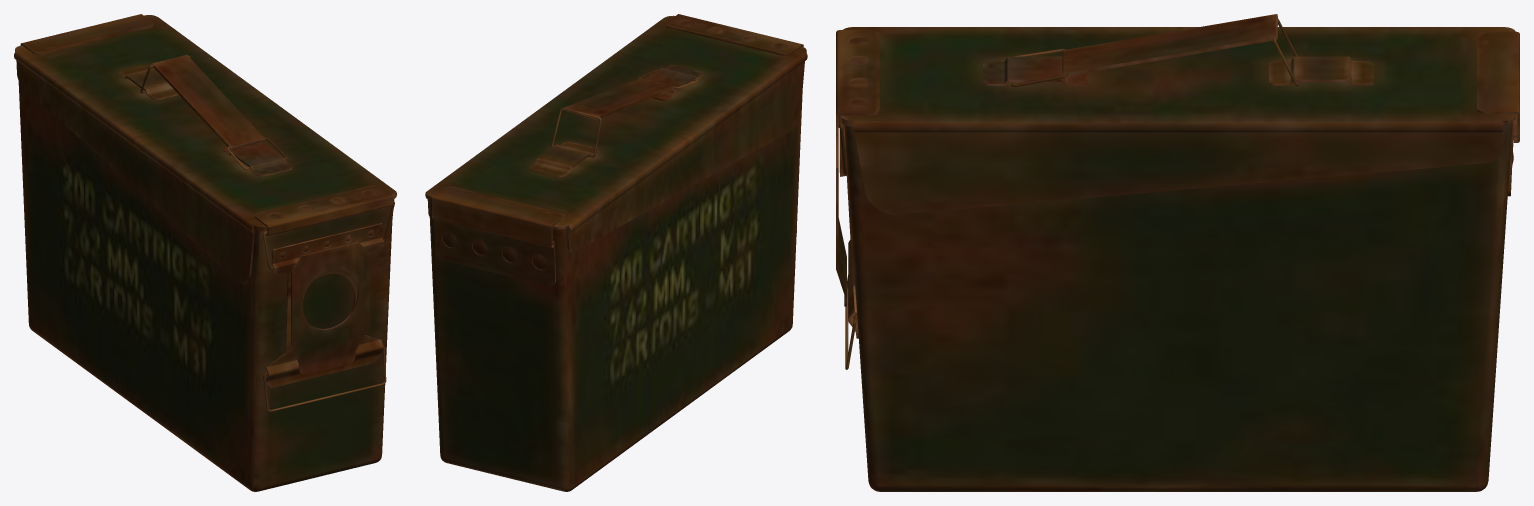
Rendered from ammo_box.glb.
3 renders of one model, left to right at view 1: azimuth 30°, elevation 25°; view 2: azimuth 150°, elevation 25°; view 3: azimuth 270°, elevation 25°, orthographic. The views are drawn at different scales.
Parts seen in each view (by area): view 1: ammo_box, ammo_box_handle, ammo_box_latch; view 2: ammo_box, ammo_box_handle; view 3: ammo_box, ammo_box_handle.
Part boxes in pixels (box(x1,y1,x2,y2)): ammo_box: box(14, 14, 396, 491); ammo_box_handle: box(152, 54, 265, 149); ammo_box_latch: box(263, 345, 386, 411); ammo_box: box(425, 14, 807, 491); ammo_box_handle: box(563, 78, 675, 119); ammo_box: box(836, 27, 1519, 491); ammo_box_handle: box(1062, 14, 1277, 76).
Size of the model in its own units: 0.0866 by 0.1775 by 0.2579.
Materials: 1 (1 with a texture image).
